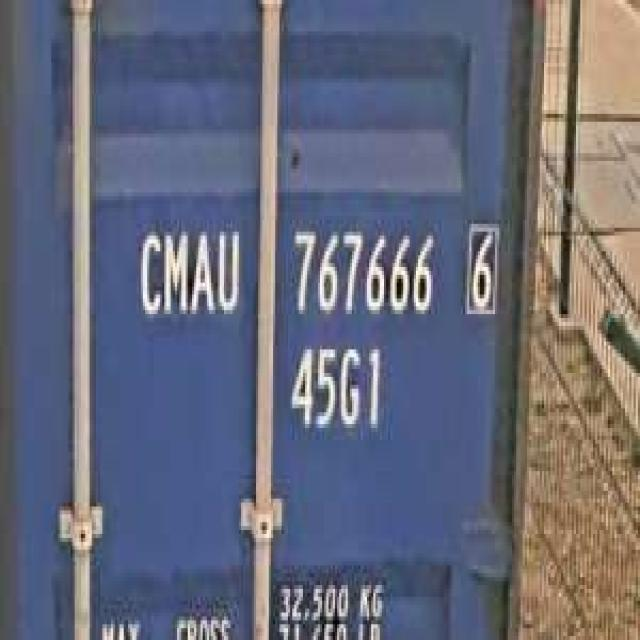dv: (461, 212, 499, 322)
owner: (132, 216, 243, 326)
serial: (286, 216, 439, 326)
size: (284, 334, 386, 444)
